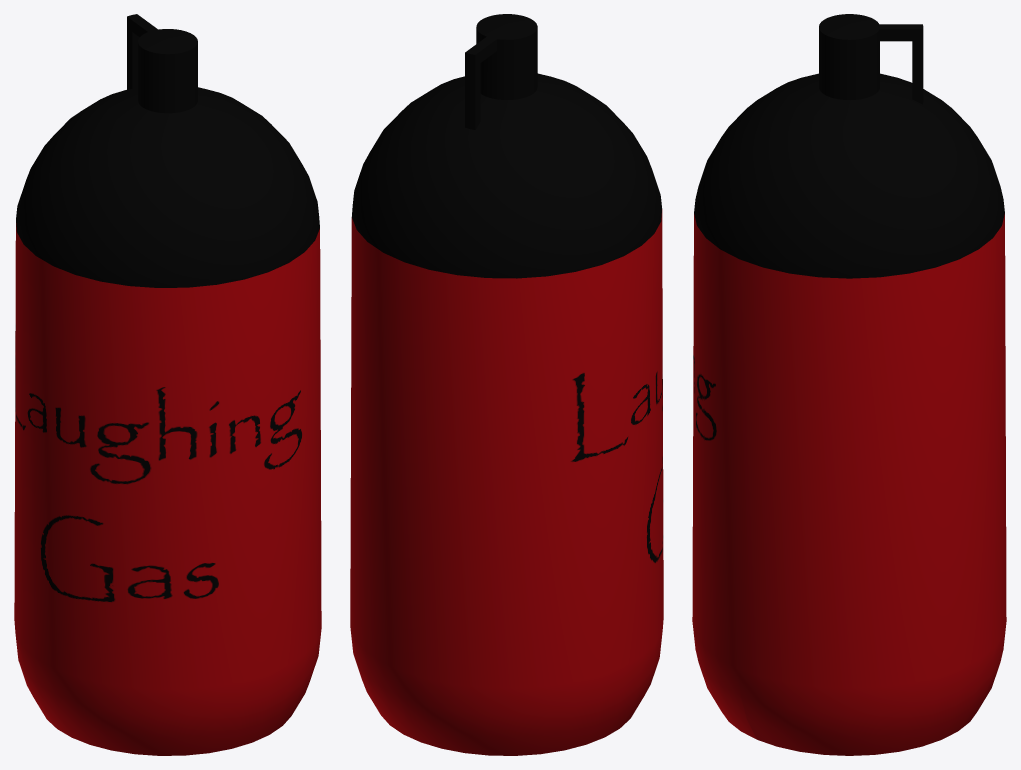
File: canister.fbx
3 renders of one model, left to right at view 1: azimuth 30°, elevation 25°; view 2: azimuth 150°, elevation 25°; view 3: azimuth 270°, elevation 25°, orthographic. The views are drawn at different scales.
Parts seen in each view (by area): view 1: Sphere; view 2: Sphere; view 3: Sphere.
Boxes of the visible parts, x1,y1,x2,y2 form: Sphere: (14, 14, 321, 755); Sphere: (350, 14, 663, 755); Sphere: (692, 14, 1006, 755).
Size of the model in its own units: 82.07 by 195 by 82.07.
